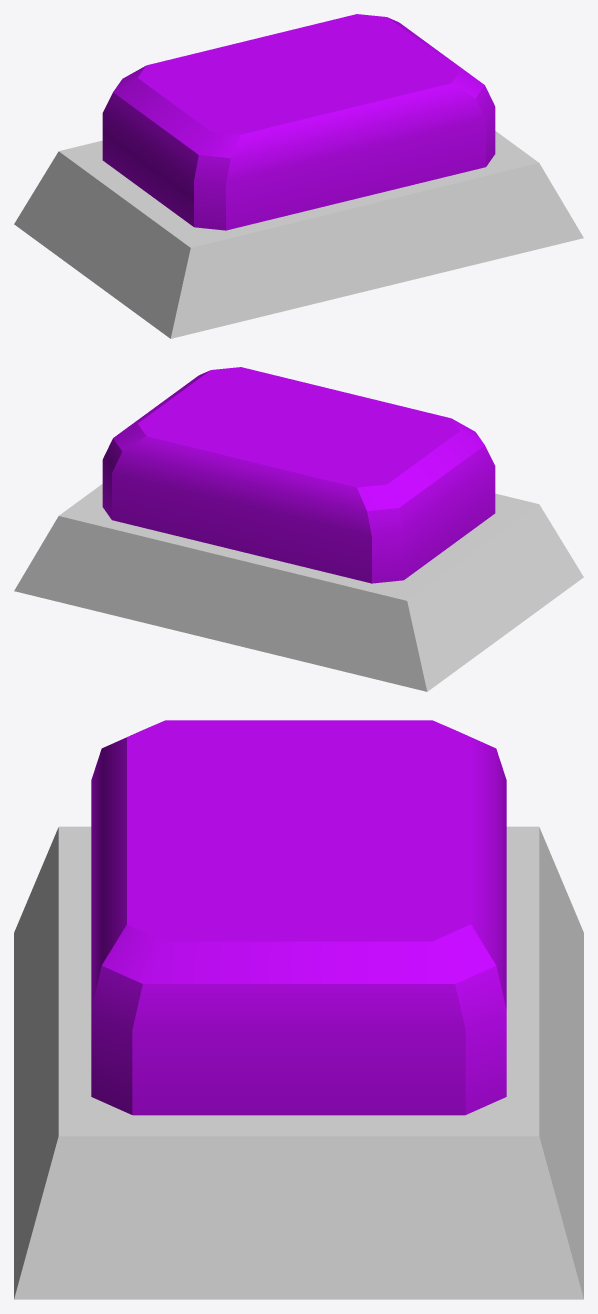
File: LED_2_Purple.fbx
3 renders of one model, top to bottom at view 1: azimuth 30°, elevation 25°; view 2: azimuth 150°, elevation 25°; view 3: azimuth 270°, elevation 25°, orthographic. The views are drawn at different scales.
Visible parts, largest first — view 1: LED_2_Purple; view 2: LED_2_Purple; view 3: LED_2_Purple.
Boxes of the visible parts, <box> form: LED_2_Purple: <box>14,14,583,338</box>; LED_2_Purple: <box>14,367,583,691</box>; LED_2_Purple: <box>14,720,583,1299</box>.
Size of the model in its own units: 33.04 by 11.99 by 21.7.
